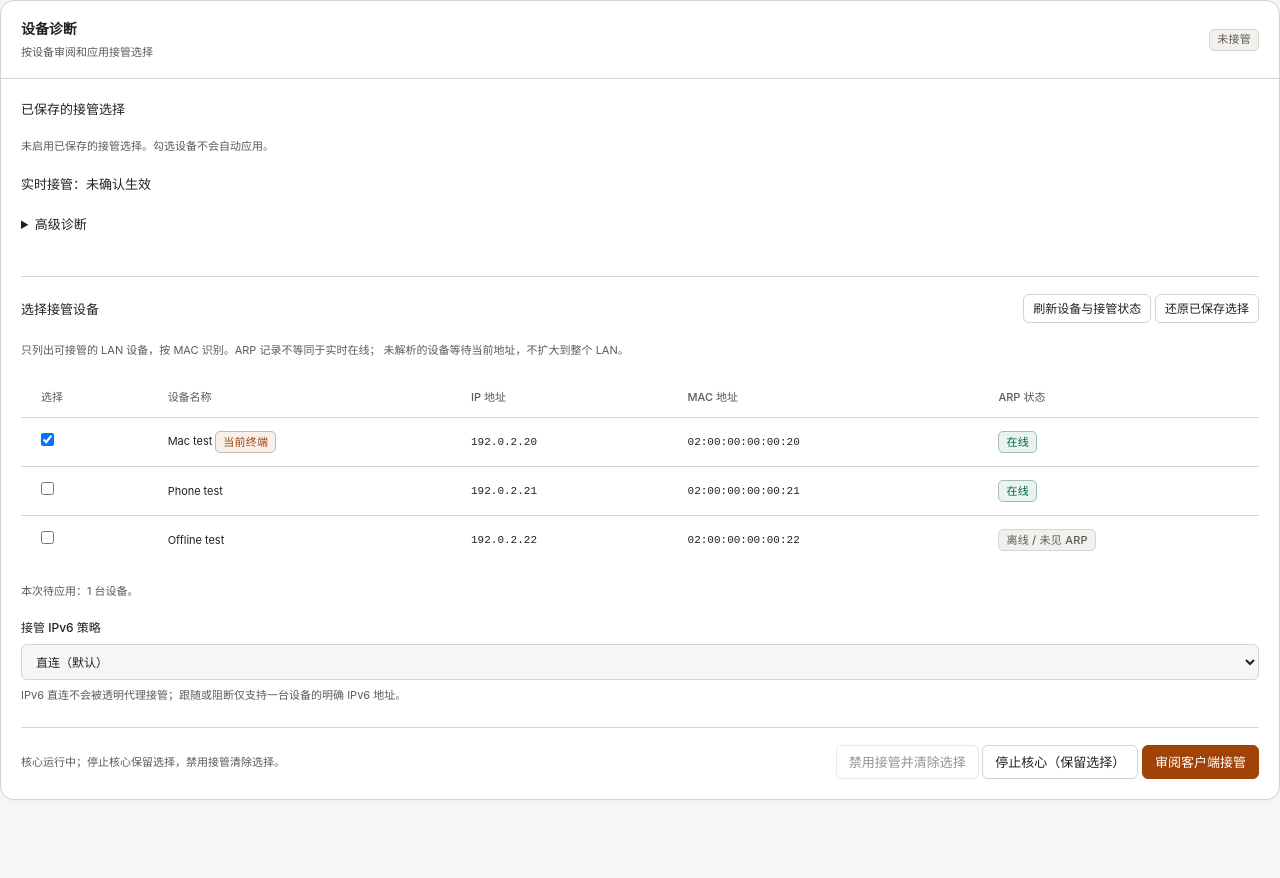
Test: observed device capture › submits exactly checked MACs only after a second confirmation
The width and height of the screenshot is (1280, 878).
Step 1. Click the checkbox named "选择设备 Phone test 02:00:00:00:00:21" → (48,488), box [41,482,54,495]
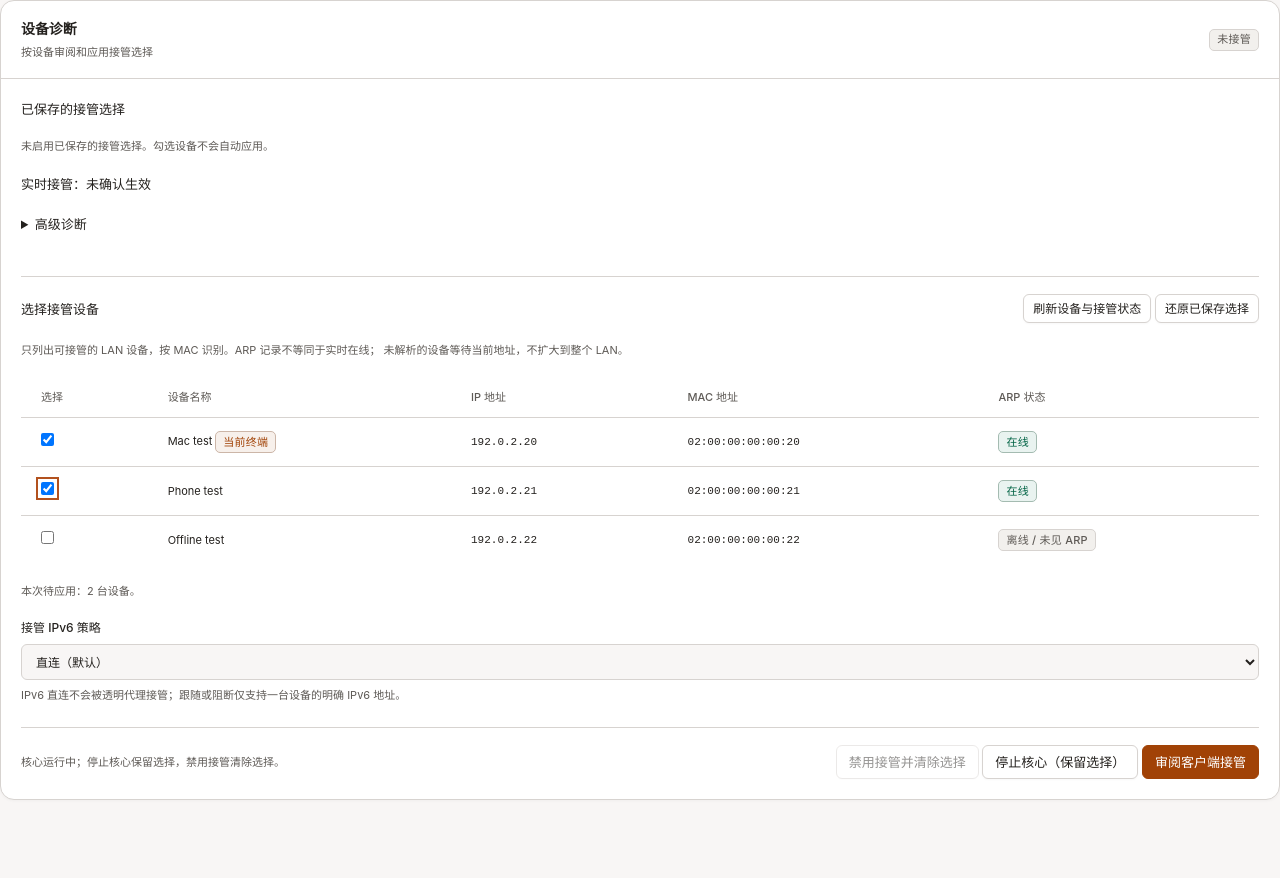
Step 2. Click the button "审阅客户端接管" → (1200,762), box [1142,745,1259,779]
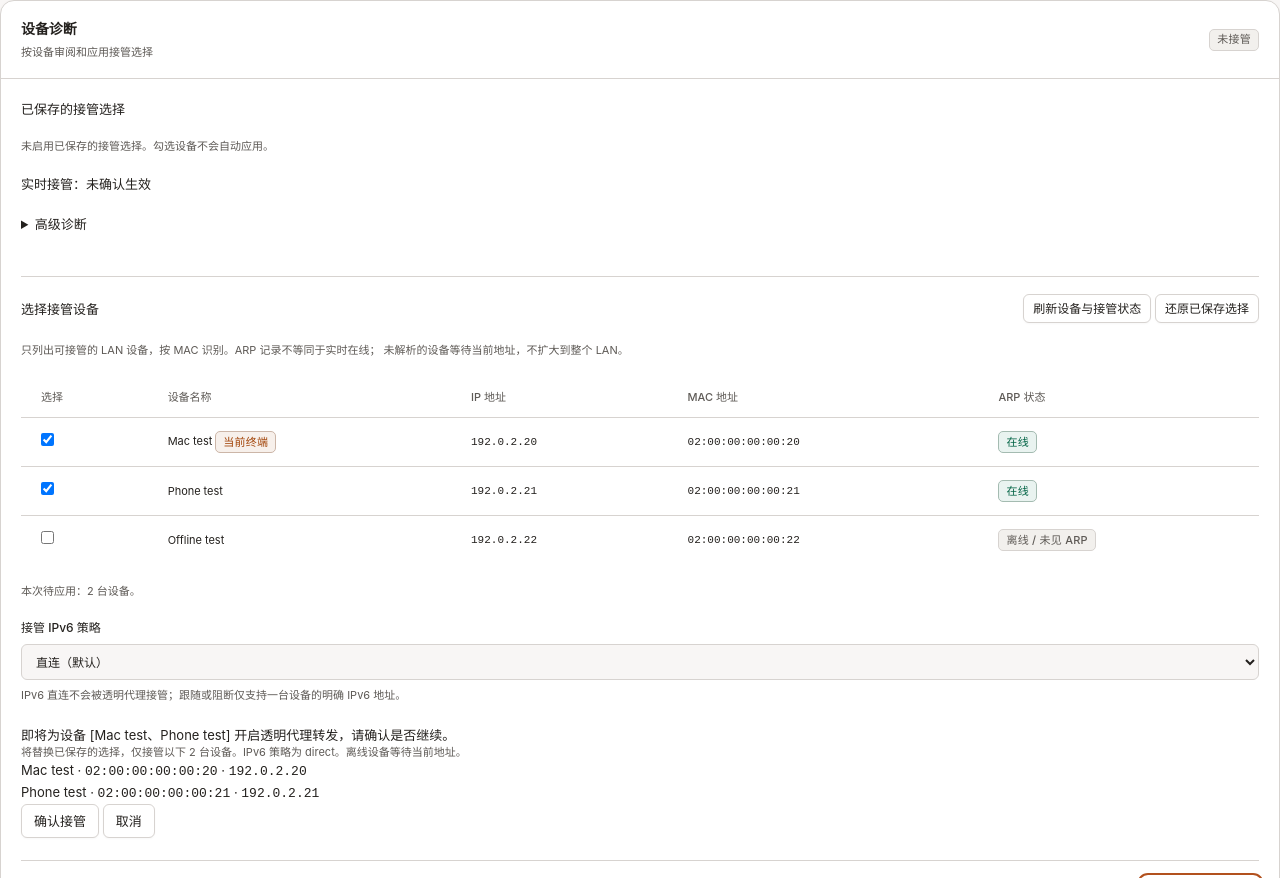
Now the text "即将为设备 [Mac test、Phone test] 开启透明代理转发，请确认是否继续。" is shown, box [21,727,455,743]
Now the text "02:00:00:00:00:20" is shown, box [85,764,218,779]
Now the text "02:00:00:00:00:21" is shown, box [98,786,230,801]
Step 3. Click the button "确认接管" → (60,821), box [21,804,99,838]
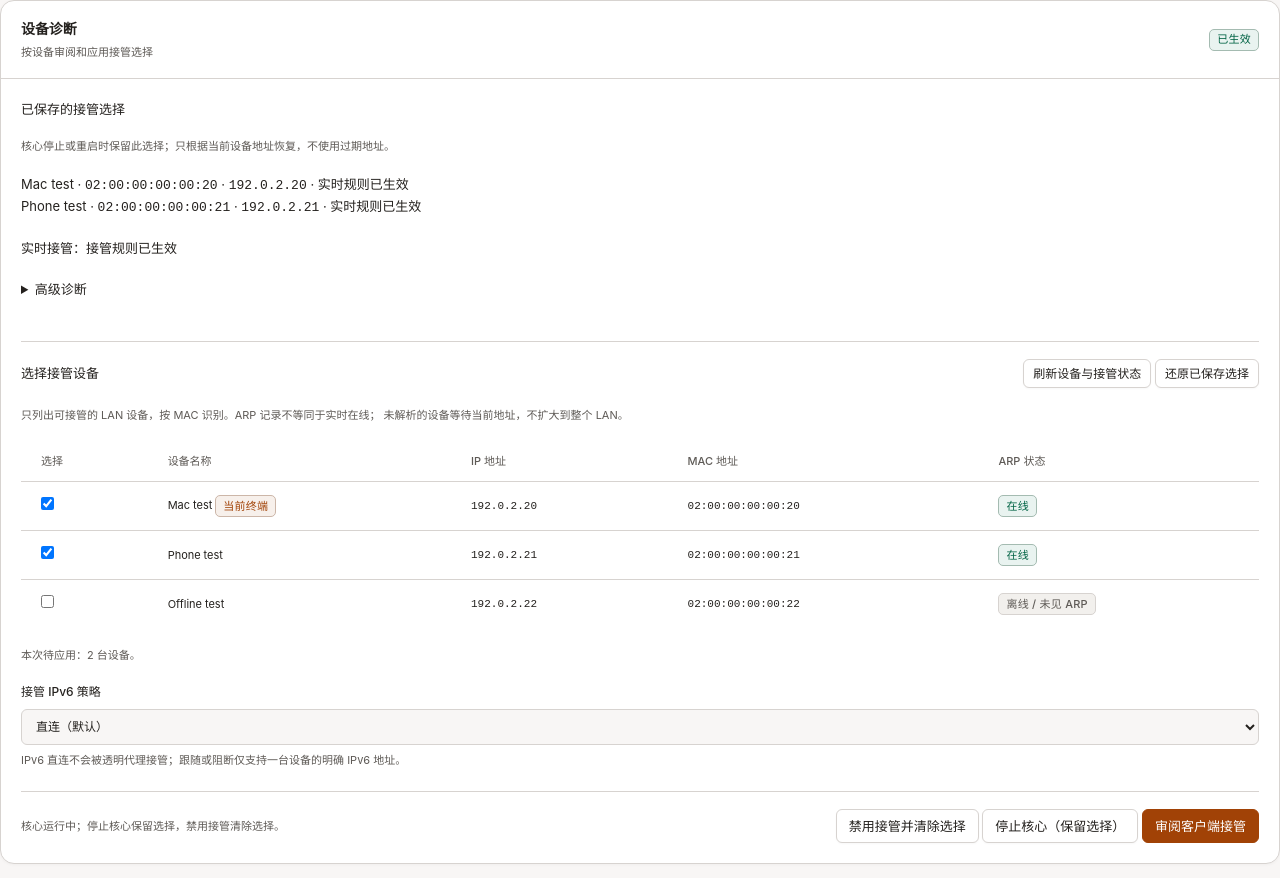
Now the text "已生效" is shown, box [1209,29,1259,51]
Now the text "实时接管：接管规则已生效" is shown, box [21,240,177,256]
